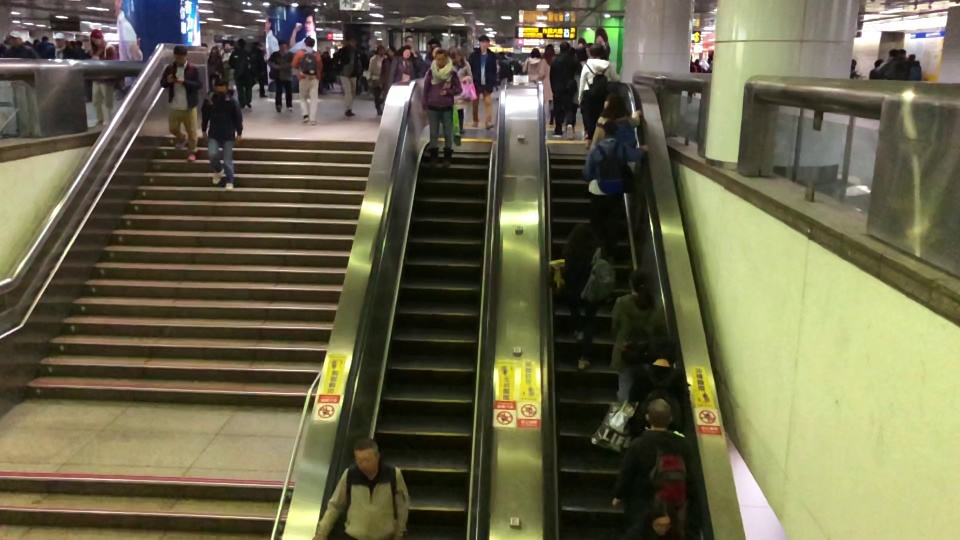person_head: (422, 47, 464, 166), (352, 436, 381, 474), (645, 395, 673, 429), (567, 222, 599, 251), (648, 334, 675, 367), (600, 91, 627, 118), (625, 268, 649, 293), (597, 118, 619, 138), (588, 43, 606, 61), (172, 45, 188, 65), (449, 46, 465, 66), (212, 77, 229, 95), (7, 29, 24, 46), (89, 28, 104, 46), (575, 44, 589, 62), (435, 47, 448, 66), (52, 31, 65, 48), (559, 39, 572, 55), (303, 35, 315, 50), (478, 35, 490, 50), (544, 42, 556, 57), (400, 45, 412, 58), (235, 37, 246, 50), (347, 35, 358, 48), (375, 45, 386, 57), (404, 34, 414, 47), (530, 47, 541, 58), (278, 40, 288, 52), (874, 57, 884, 69)
person_vbox: (610, 397, 693, 539), (314, 436, 410, 540), (552, 219, 616, 369), (582, 119, 648, 262), (610, 268, 668, 405), (628, 332, 688, 443), (199, 78, 244, 190), (160, 44, 203, 161), (577, 44, 621, 149), (547, 41, 583, 139), (85, 28, 120, 125), (587, 92, 642, 152), (290, 36, 323, 125), (469, 34, 497, 131), (332, 35, 364, 118), (448, 48, 473, 135), (267, 39, 295, 114), (227, 38, 255, 108), (537, 43, 557, 126), (573, 45, 589, 140), (368, 45, 388, 115), (3, 30, 40, 61), (390, 45, 415, 86), (880, 49, 909, 82), (48, 31, 75, 59), (521, 46, 543, 76), (869, 57, 886, 80)
